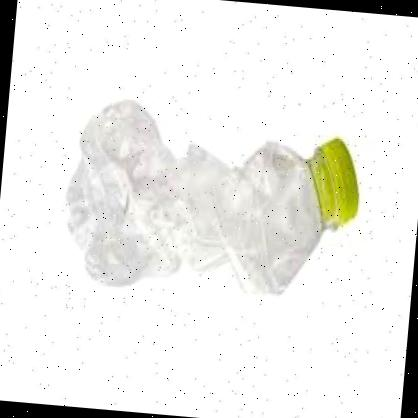bottle: (61, 89, 364, 320)
cap: (305, 130, 368, 235)
